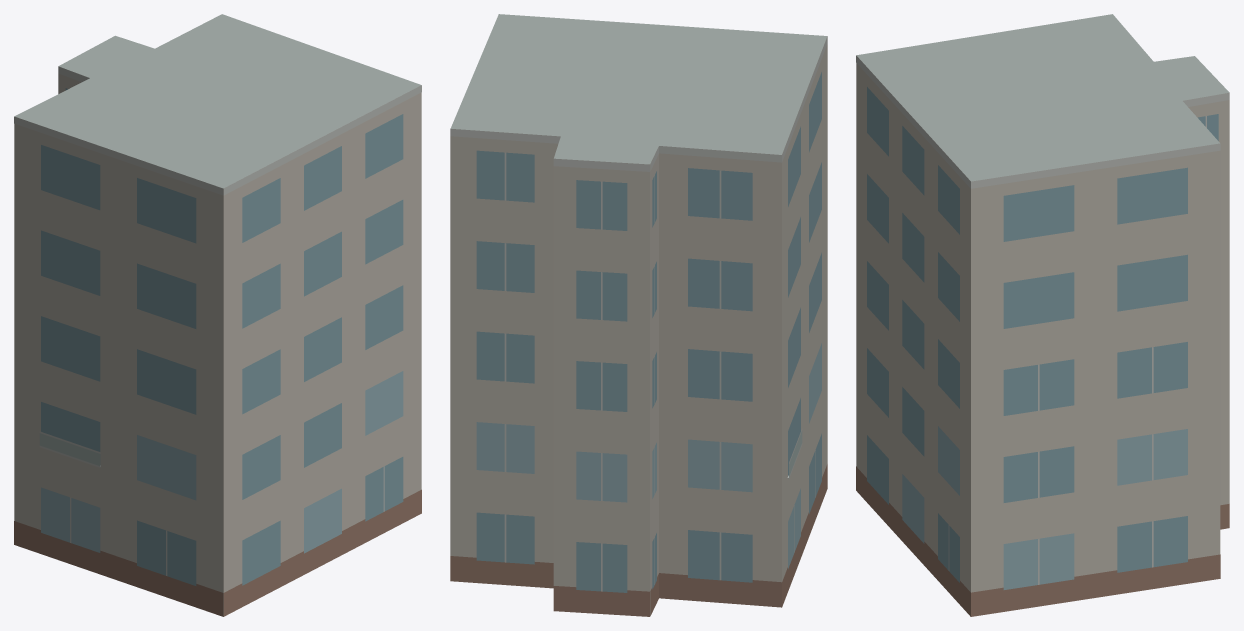
File: survey-upis-32853671.glb
3 views of the same model, side by side, from view 1: azimuth 30°, elevation 25°; view 2: azimuth 150°, elevation 25°; view 3: azimuth 270°, elevation 25° (orthographic). The views are drawn at different scales.
Visible parts, largest first — view 1: survey-upis-32853671.tmp; view 2: survey-upis-32853671.tmp; view 3: survey-upis-32853671.tmp.
Part boxes in pixels (x1,y1,x2,y2): survey-upis-32853671.tmp: (14,14,421,616); survey-upis-32853671.tmp: (450,14,827,616); survey-upis-32853671.tmp: (856,14,1229,616).
Size of the model in its own units: 12.12 by 14.67 by 11.42.
